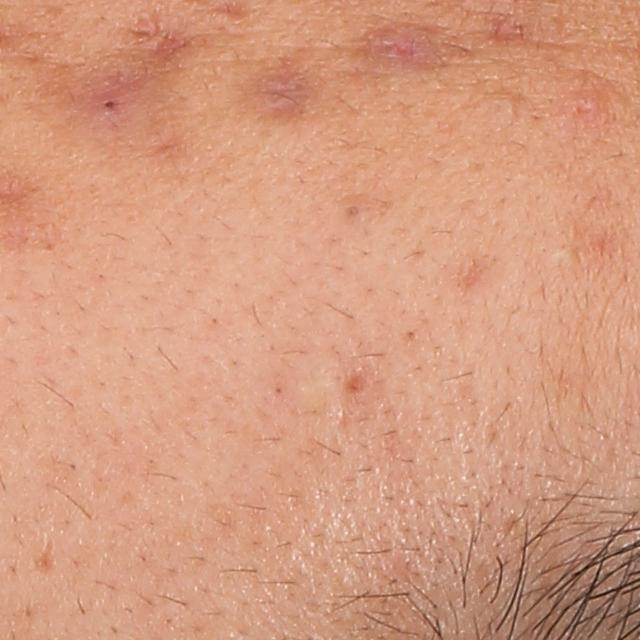atrophic_scar: (455, 71, 541, 130), (252, 64, 313, 120), (453, 255, 516, 306), (365, 28, 440, 69), (125, 15, 185, 63), (33, 536, 55, 576), (343, 370, 371, 397)
comedo: (343, 200, 361, 221)
